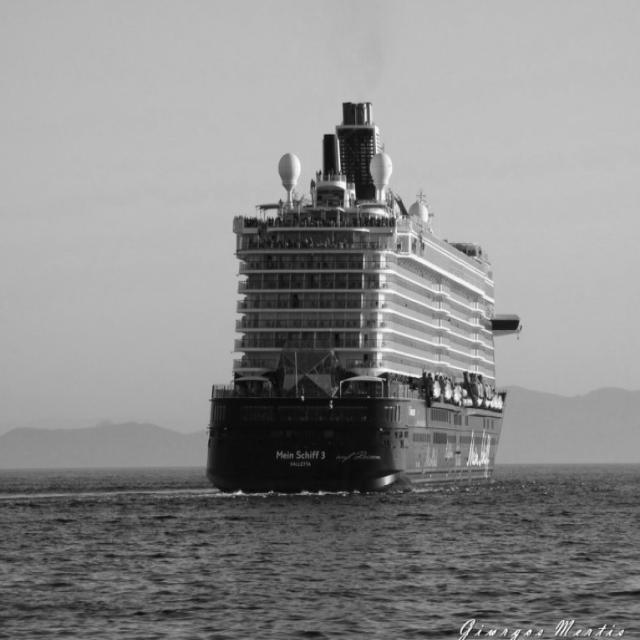cruises: (204, 97, 525, 506)
